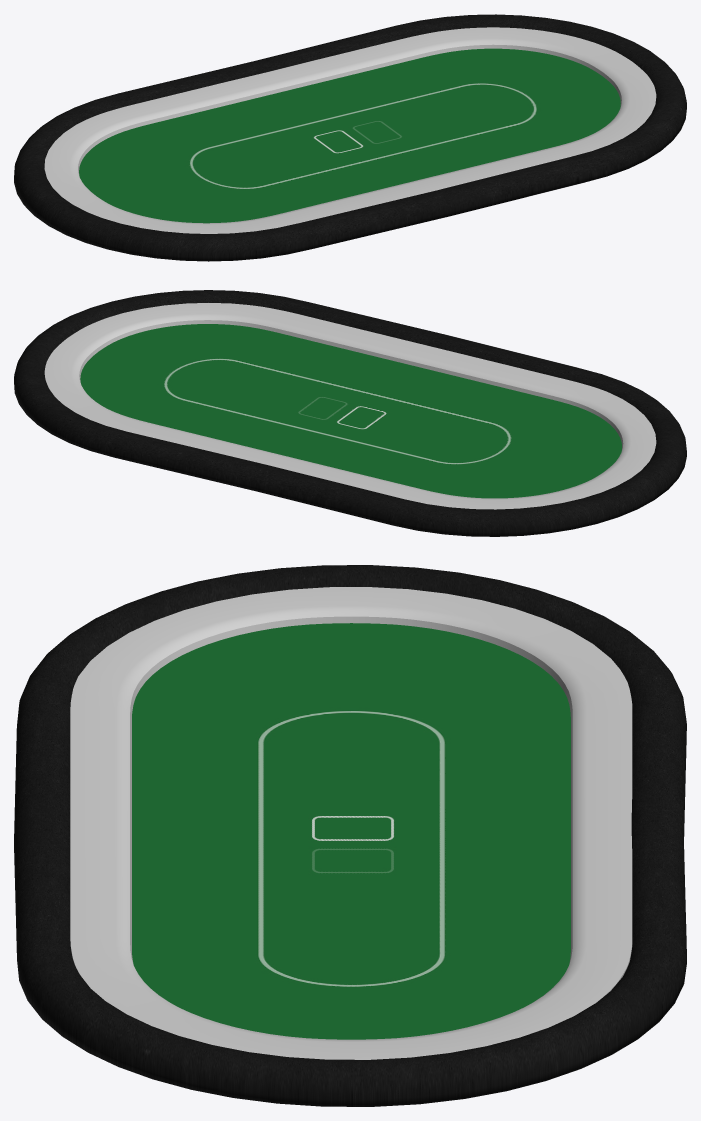
The model's file is TableNew2.FBX.
3 views of the same model, one above another, from view 1: azimuth 30°, elevation 25°; view 2: azimuth 150°, elevation 25°; view 3: azimuth 270°, elevation 25° (orthographic). The views are drawn at different scales.
Parts seen in each view (by area): view 1: Shape004, Rectangle004, Tube001; view 2: Shape004, Rectangle004, Tube001; view 3: Shape004, Rectangle004, Tube001.
Boxes of the visible parts, bbox=[...] form: Shape004: bbox=[79, 48, 620, 223]; Rectangle004: bbox=[14, 14, 686, 261]; Tube001: bbox=[44, 27, 656, 233]; Shape004: bbox=[80, 324, 621, 498]; Rectangle004: bbox=[14, 290, 686, 536]; Tube001: bbox=[44, 303, 656, 509]; Shape004: bbox=[132, 623, 570, 1039]; Rectangle004: bbox=[14, 565, 686, 1106]; Tube001: bbox=[70, 587, 632, 1059].
Size of the model in its own units: 528 by 15.41 by 289.
